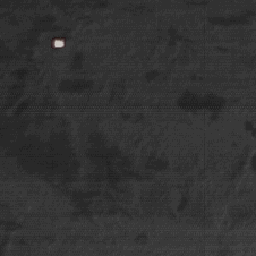Target: (52, 38, 65, 47)
